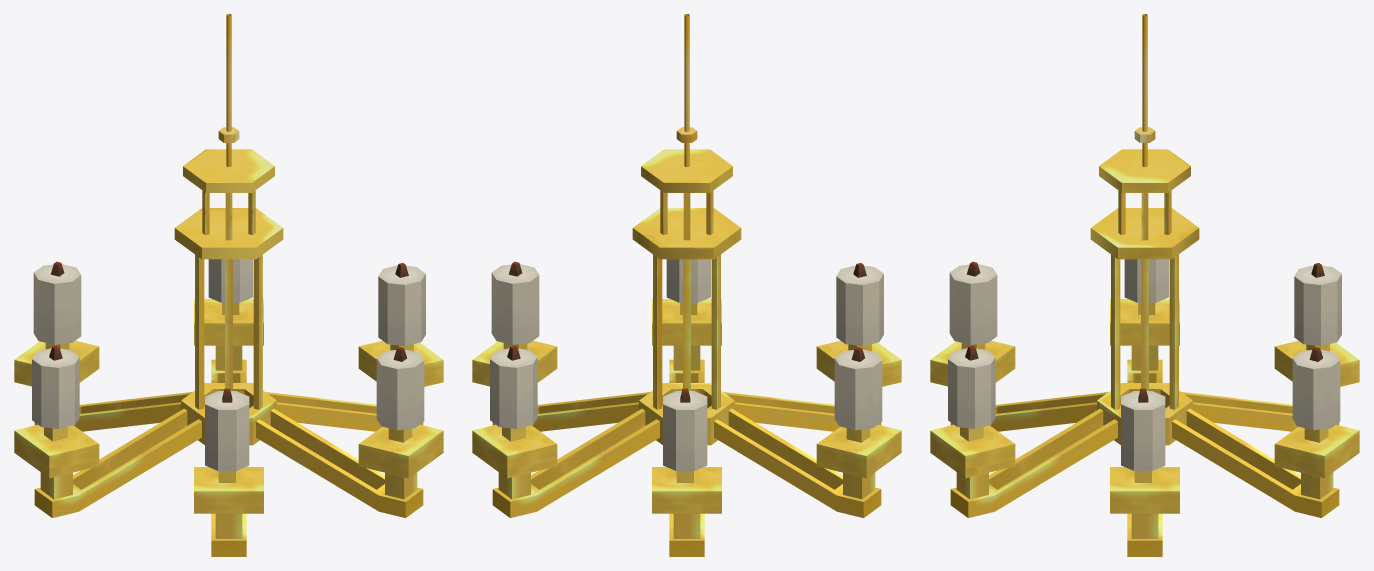
File: Chandelier.FBX
The picture shows the model from 3 angles, left to right: view 1: azimuth 30°, elevation 25°; view 2: azimuth 150°, elevation 25°; view 3: azimuth 270°, elevation 25°; orthographic projection.
Visible parts, largest first — view 1: Chandelier; view 2: Chandelier; view 3: Chandelier.
Boxes of the visible parts, bbox=[...] form: Chandelier: bbox=[14, 14, 443, 556]; Chandelier: bbox=[472, 14, 901, 556]; Chandelier: bbox=[930, 14, 1359, 556].
Size of the model in its own units: 652 by 713 by 615.
